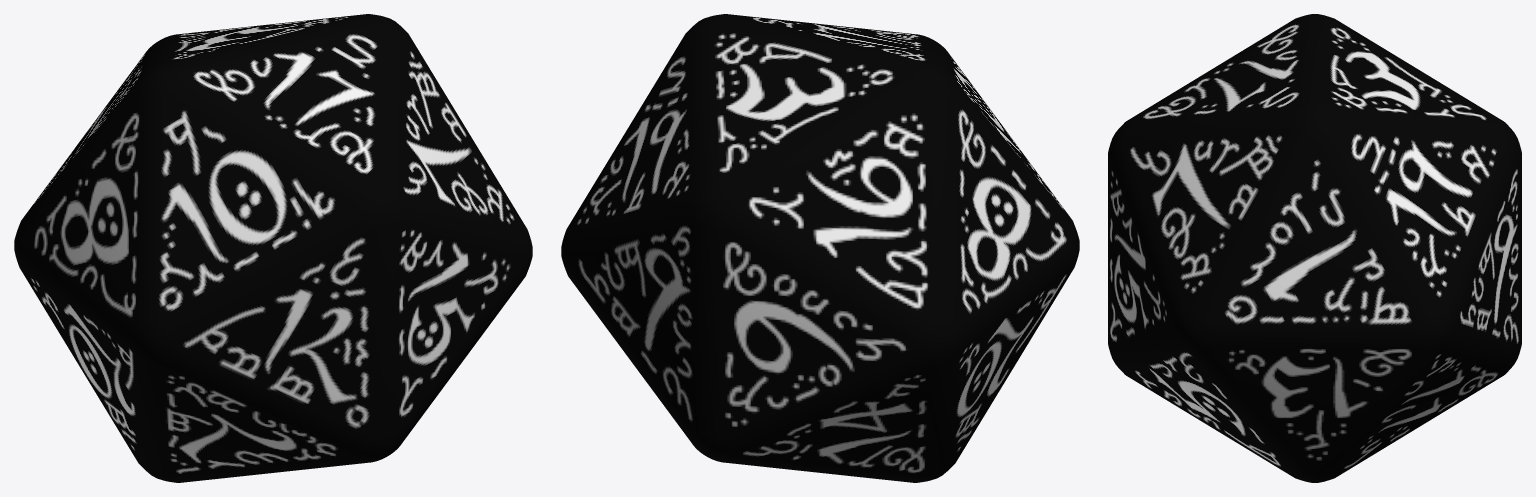
Rendered from elvish_SELV05_d20.glb.
3 views of the same model, side by side, from view 1: azimuth 30°, elevation 25°; view 2: azimuth 150°, elevation 25°; view 3: azimuth 270°, elevation 25° (orthographic). The views are drawn at different scales.
Parts seen in each view (by area): view 1: Solid; view 2: Solid; view 3: Solid.
Part boxes in pixels (x1,y1,x2,y2): Solid: [14, 14, 532, 482]; Solid: [561, 14, 1079, 482]; Solid: [1108, 14, 1521, 482].
Size of the model in its own units: 168 by 168 by 168.
Materials: 1 (1 with a texture image).
